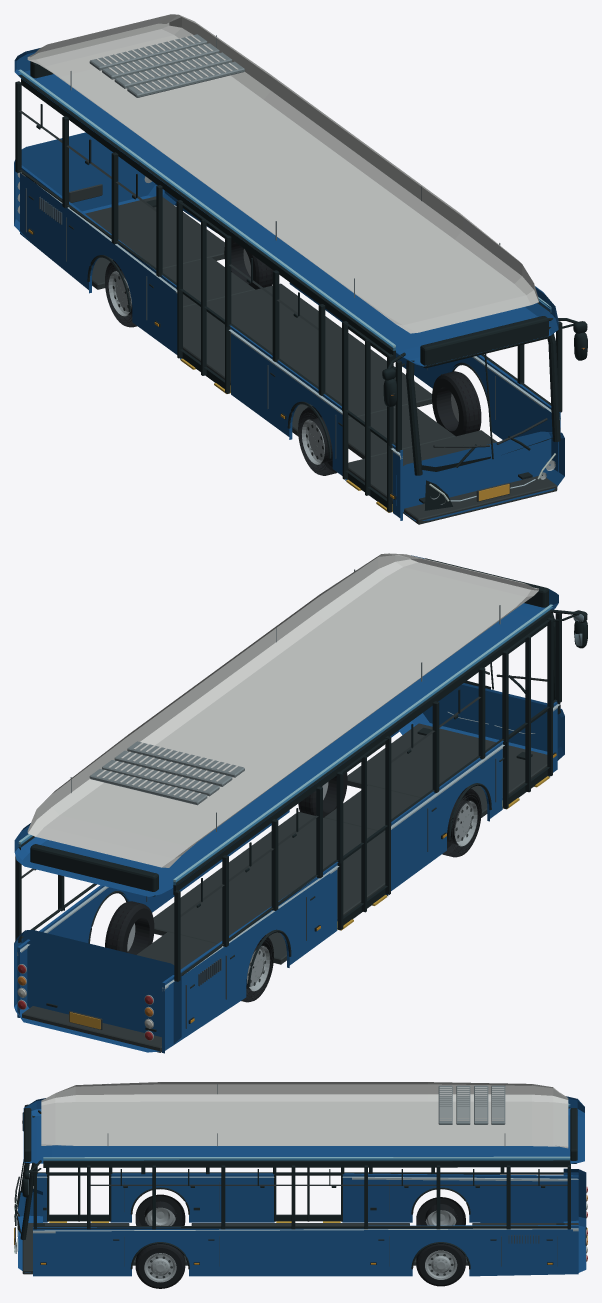
The model's file is body.glb.
The picture shows the model from 3 angles, top to bottom: view 1: azimuth 30°, elevation 25°; view 2: azimuth 150°, elevation 25°; view 3: azimuth 270°, elevation 25°; orthographic projection. The views are drawn at different scales.
Visible parts, largest first — view 1: CityBody; view 2: CityBody; view 3: CityBody.
Part boxes in pixels (left/top/right/bottom): CityBody: left=14, top=14, right=587, bottom=524; CityBody: left=14, top=553, right=587, bottom=1053; CityBody: left=14, top=1082, right=587, bottom=1288.
Size of the model in its own units: 3.17 by 3.41 by 11.05.
